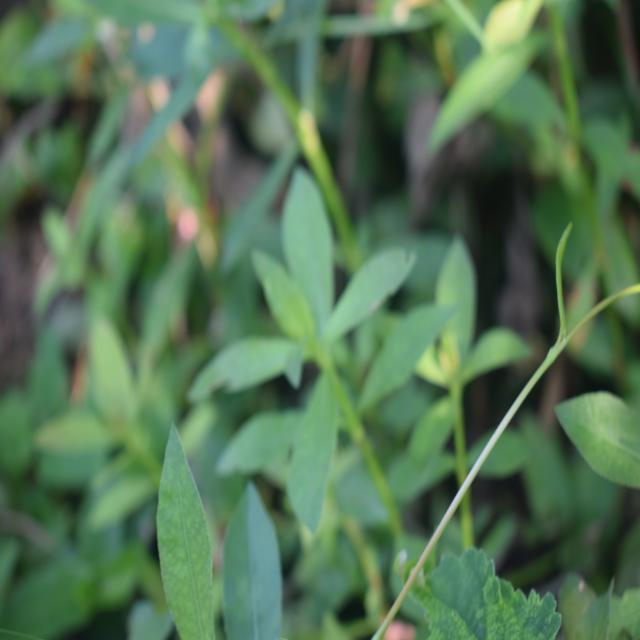Alligatorweed: (192, 174, 430, 515), (154, 431, 284, 633)
